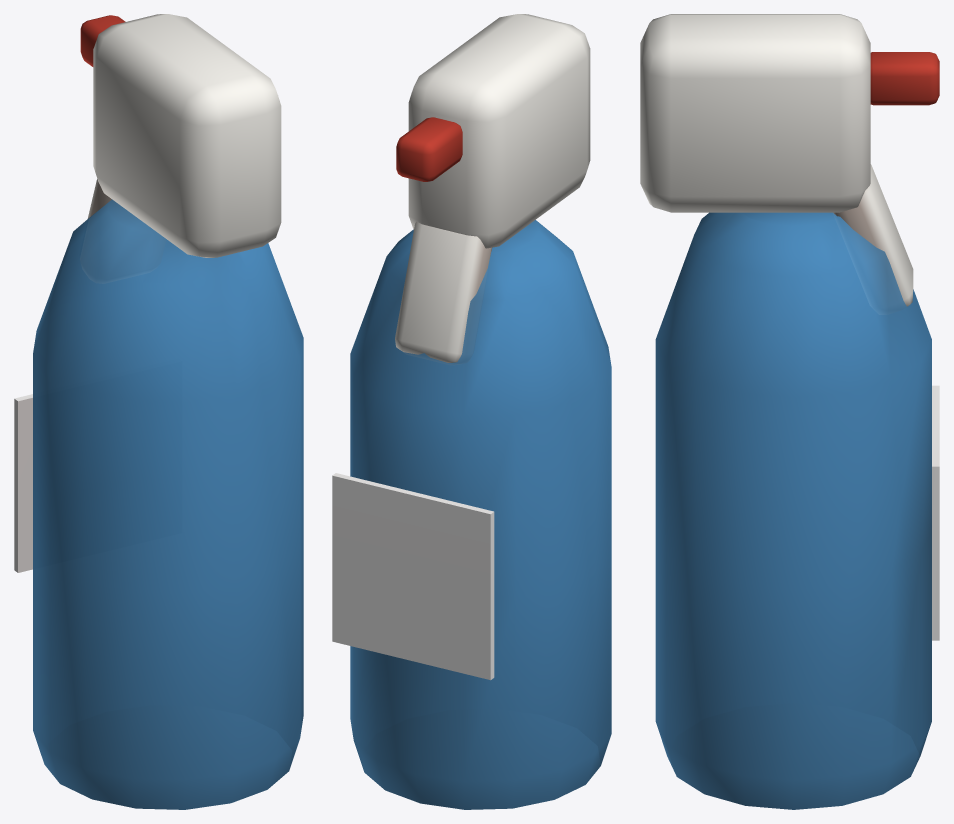
Rendered from fp-spray.gltf.
The picture shows the model from 3 angles, left to right: view 1: azimuth 30°, elevation 25°; view 2: azimuth 150°, elevation 25°; view 3: azimuth 270°, elevation 25°; orthographic projection. The views are drawn at different scales.
Parts seen in each view (by area): view 1: model; view 2: model; view 3: model.
Part boxes in pixels (x1=…): model: x1=14, y1=14, x2=303, y2=809; model: x1=332, y1=14, x2=611, y2=809; model: x1=640, y1=14, x2=939, y2=809.
Bounding box in the file's own units: 0.072 × 0.21 × 0.078.
